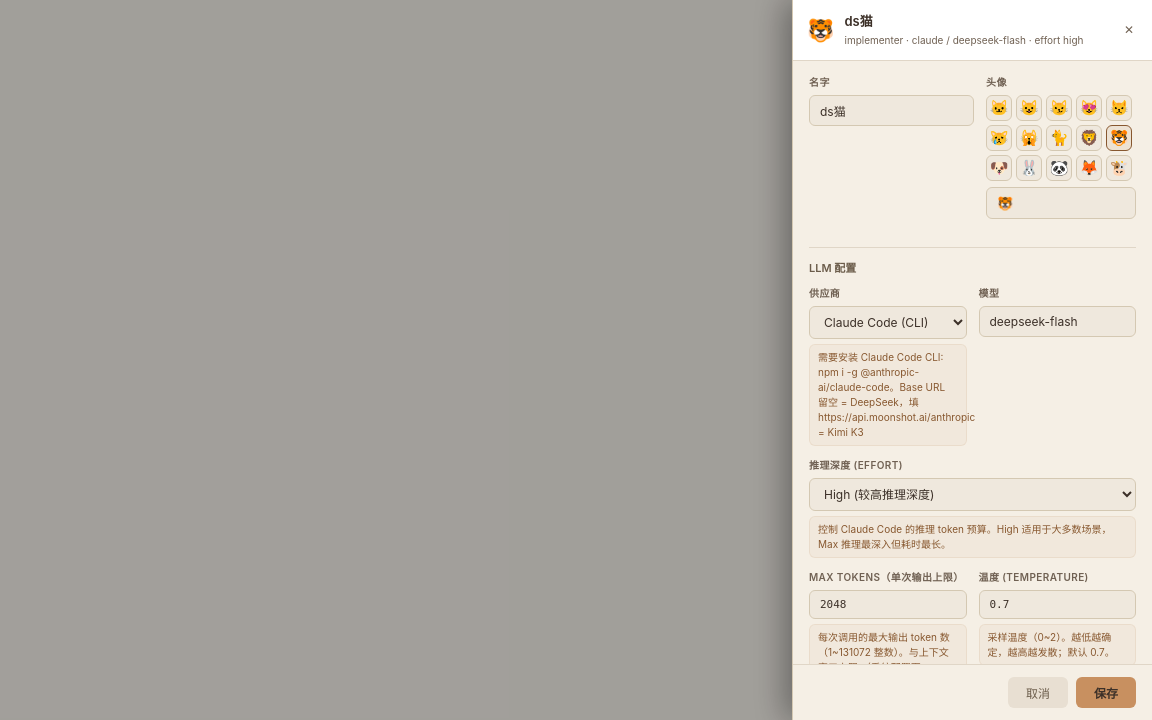
it: AgentSettingsDrawer 挂载（保存闭环 / 校验拦截） › 保存失败 → 错误提示可见且不关闭（样本不丢）
Click the button with class "btn-ok" at (1106, 692), box x1=1076 y1=677 x2=1136 y2=708
(page scrolled)
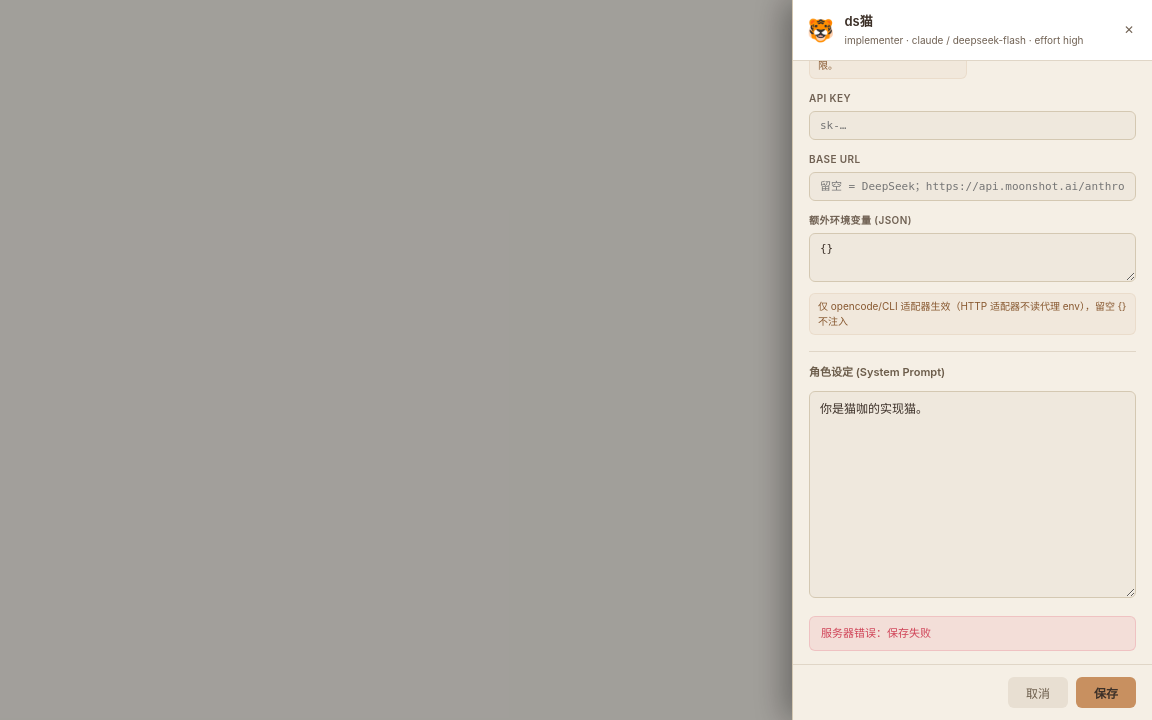
Expected: the text with class "error-msg" shows "保存失败", x1=821 y1=626 x2=931 y2=640
